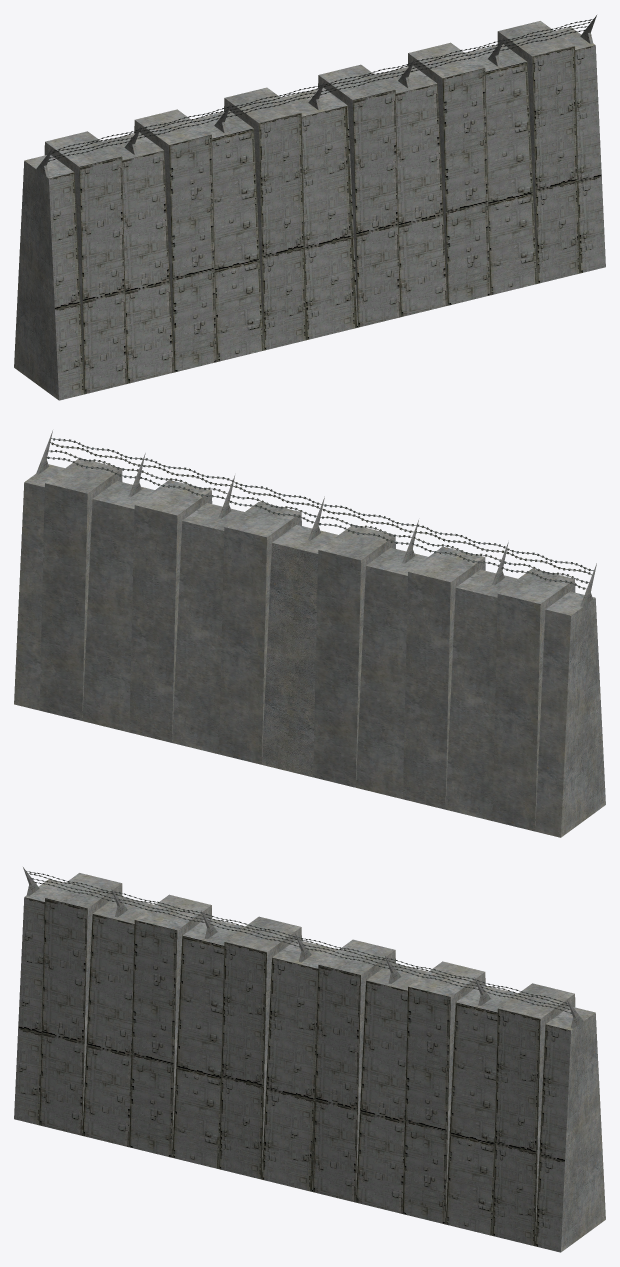
The model's file is mun_all_military_wall_strong_impl_16_s01_l1.fbx.
3 views of the same model, one above another, from view 1: azimuth 30°, elevation 25°; view 2: azimuth 150°, elevation 25°; view 3: azimuth 330°, elevation 25° (orthographic).
Visible parts, largest first — view 1: mesh_node; view 2: mesh_node; view 3: mesh_node.
Boxes of the visible parts, x1,y1,x2,y2 form: mesh_node: (14,15,605,400); mesh_node: (14,430,605,837); mesh_node: (14,867,605,1252).
Bounding box in the file's own units: 16 × 6.93 × 2.29.
